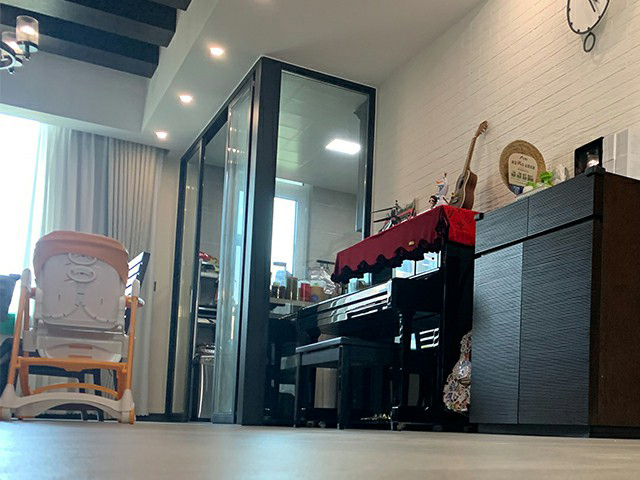cabinet: (469, 165, 640, 440)
curtain: (41, 123, 165, 417)
stool: (291, 335, 386, 430)
trashcan: (192, 344, 216, 422)
